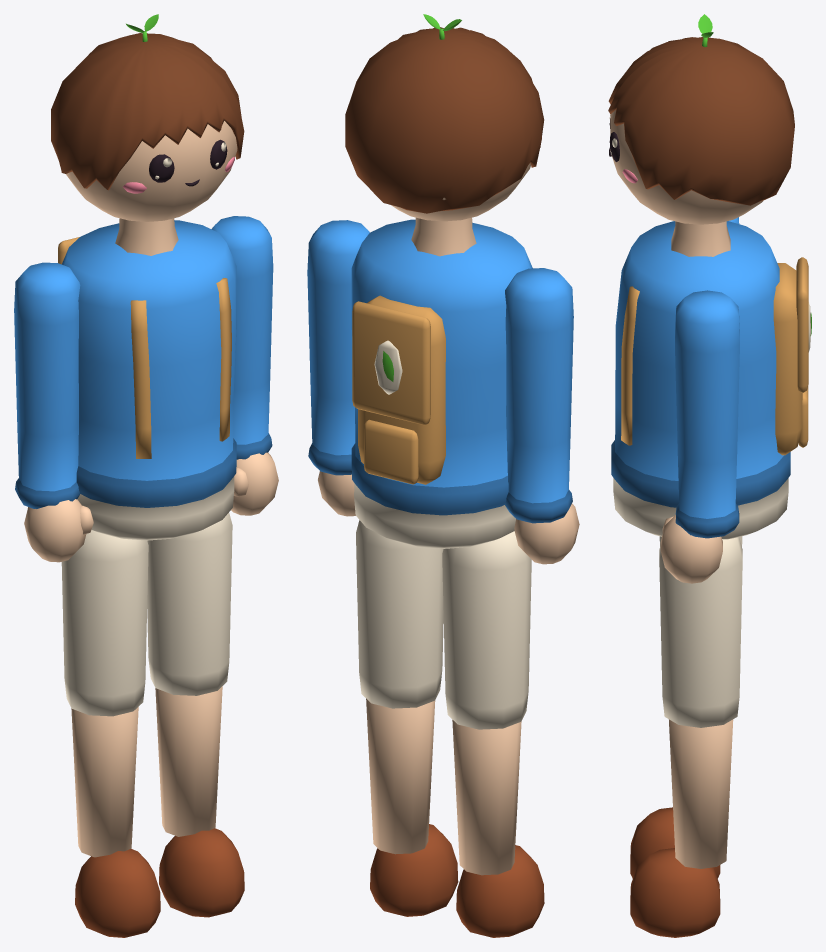
File: hero-grown.glb
The picture shows the model from 3 angles, left to right: view 1: azimuth 30°, elevation 25°; view 2: azimuth 150°, elevation 25°; view 3: azimuth 270°, elevation 25°; orthographic projection. The views are drawn at different scales.
Parts seen in each view (by area): view 1: body, head, leg-left, leg-right, arm-left, arm-right; view 2: body, head, leg-left, leg-right, arm-left, arm-right; view 3: body, head, leg-right, arm-right, leg-left.
Boxes of the visible parts, <box> form: body: <box>58,220,236,540</box>; head: <box>51,33,244,255</box>; leg-left: <box>61,530,160,937</box>; leg-right: <box>147,512,244,917</box>; arm-left: <box>14,262,93,562</box>; arm-right: <box>211,216,278,515</box>; body: <box>351,219,532,548</box>; head: <box>345,27,544,256</box>; leg-left: <box>442,531,544,937</box>; leg-right: <box>356,520,458,916</box>; arm-left: <box>504,268,579,564</box>; arm-right: <box>307,220,369,516</box>; body: <box>611,221,811,539</box>; head: <box>608,37,794,256</box>; leg-right: <box>630,537,742,937</box>; arm-right: <box>660,290,739,583</box>; leg-left: <box>630,536,742,878</box>.
Size of the model in its own units: 0.8945 by 3.03 by 0.6326.
